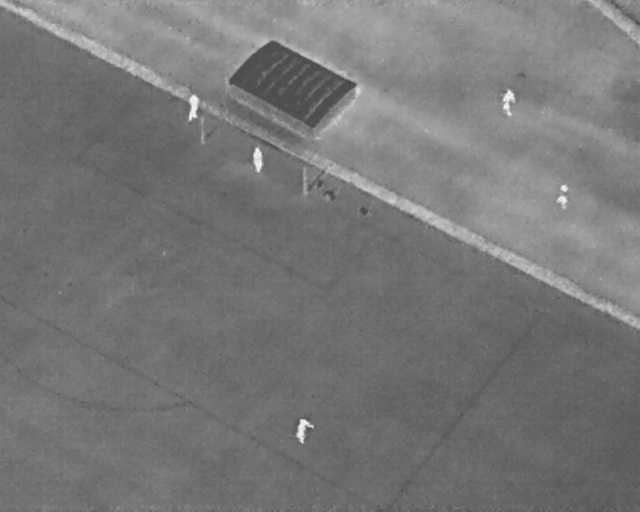Person: (291, 414, 316, 446), (499, 86, 516, 119), (553, 180, 570, 212), (184, 93, 201, 121), (251, 145, 265, 175)
